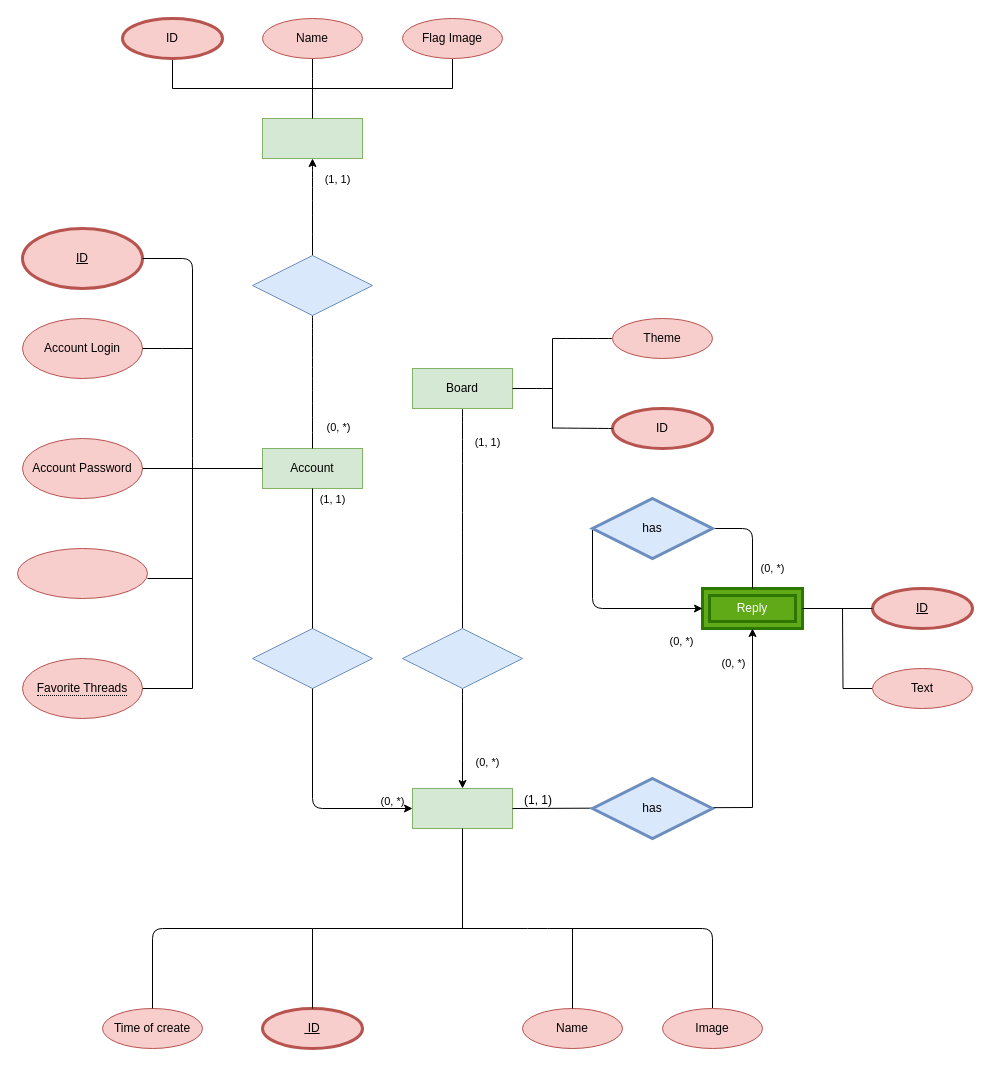
The diagram is 991 pixels wide and 1067 high, and some of its shapes have lost their labels. Here are the shapes that lost their labels. From the top down, the box of each, then its label:
(262, 118, 362, 158): Country
(252, 254, 372, 316): places in
(16, 548, 148, 598): Email
(252, 628, 372, 688): creates
(402, 628, 522, 688): contains
(412, 788, 512, 828): Thread
